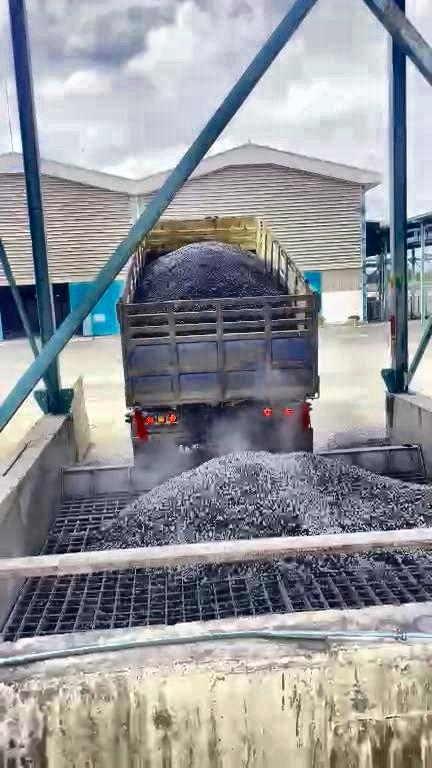gravel: (95, 453, 432, 547), (168, 551, 431, 588), (135, 242, 284, 301), (318, 427, 390, 450)
